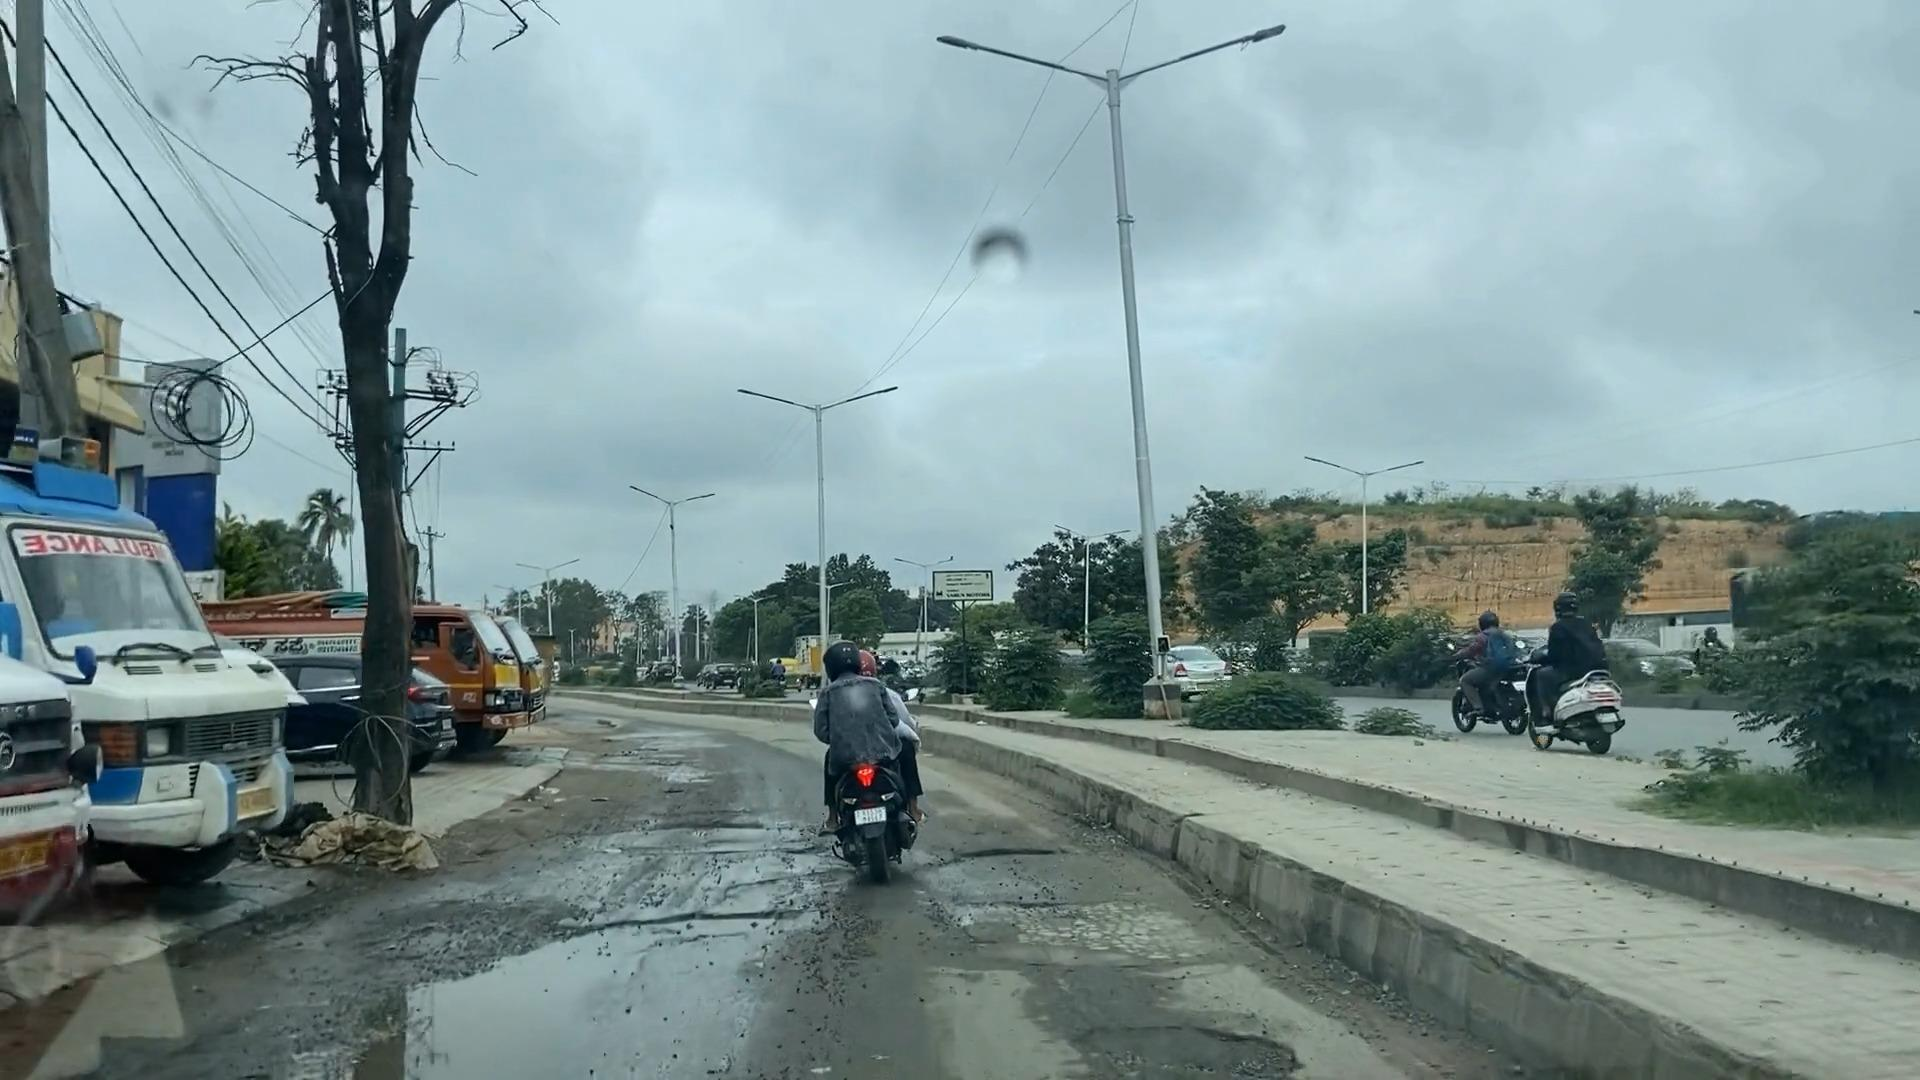LMV: (814, 644, 918, 882)
RoadDamages: (367, 873, 767, 994), (923, 833, 1193, 971), (1069, 1006, 1299, 1080)
